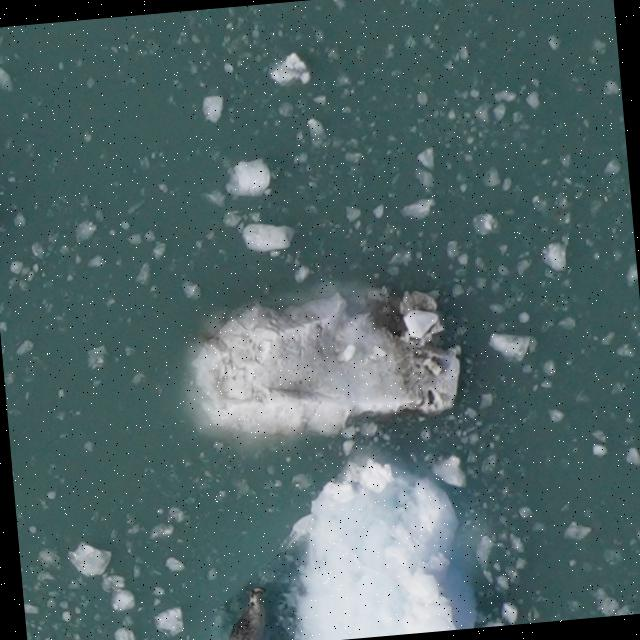seal: (218, 578, 275, 640)
